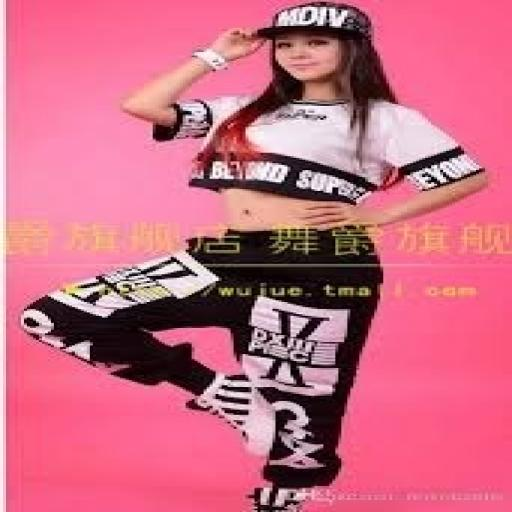dancing: (18, 0, 494, 510)
